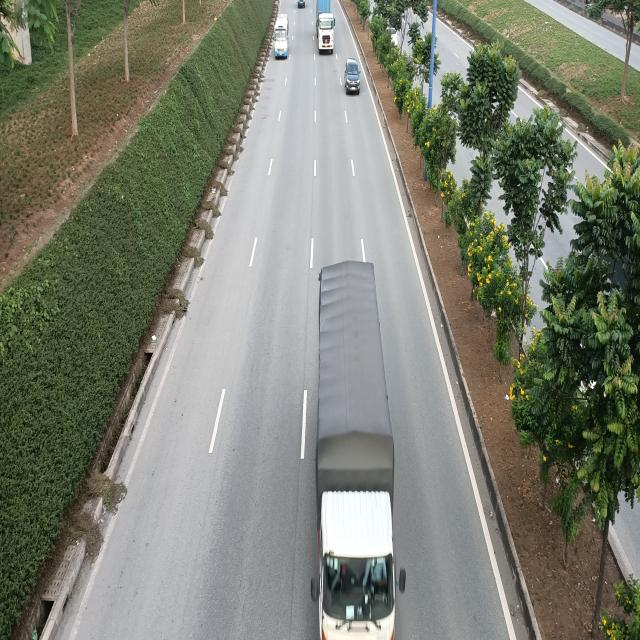car: (344, 58, 361, 93)
coach: (274, 13, 290, 58)
container: (316, 0, 336, 54)
truck: (306, 256, 402, 636)
